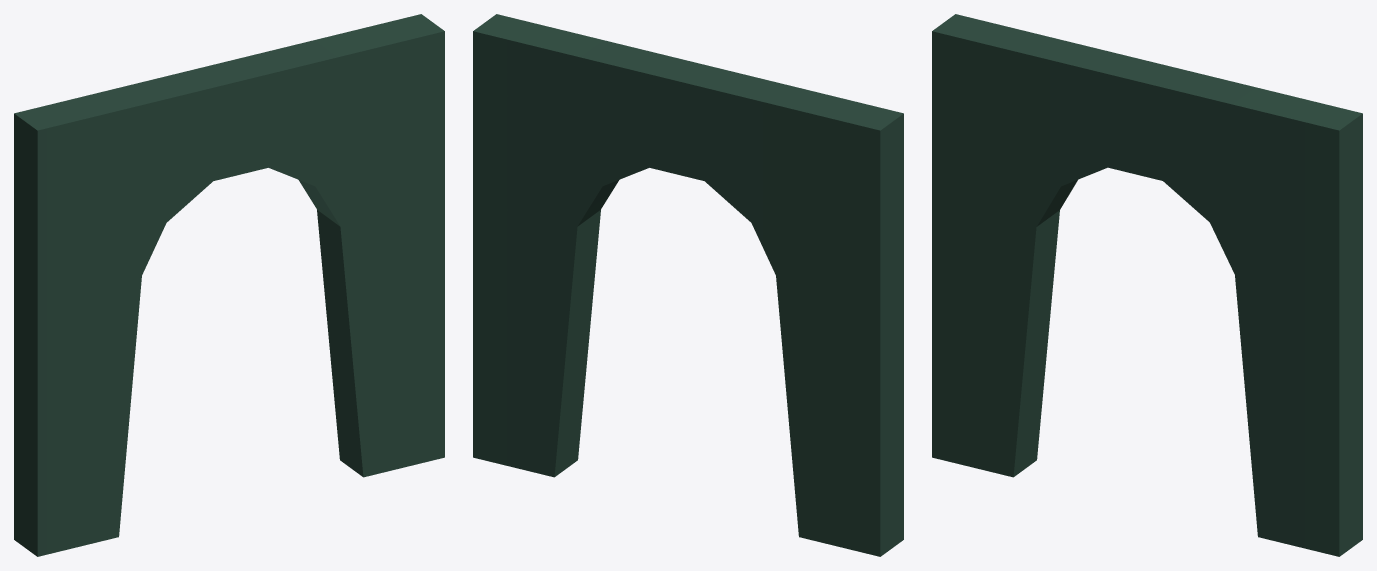
The model's file is SM_Wall_ArchSmall.fbx.
3 renders of one model, left to right at view 1: azimuth 30°, elevation 25°; view 2: azimuth 150°, elevation 25°; view 3: azimuth 330°, elevation 25°, orthographic.
Parts seen in each view (by area): view 1: SM_Wall_ArchSmall; view 2: SM_Wall_ArchSmall; view 3: SM_Wall_ArchSmall.
Part boxes in pixels (x1,y1,x2,y2): SM_Wall_ArchSmall: (14,14,444,556); SM_Wall_ArchSmall: (473,14,903,556); SM_Wall_ArchSmall: (932,14,1362,556).
Size of the model in its own units: 500 by 500 by 50.
1 material, 1 textured.
